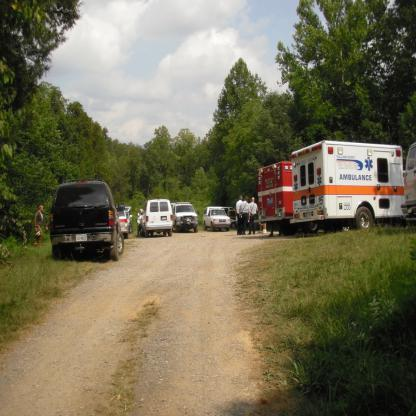Ambulance - v1 Ambulance last generate: (288, 138, 412, 230)
